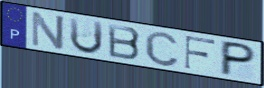B: (106, 23, 143, 62)
C: (143, 30, 181, 68)
F: (183, 35, 218, 71)
N: (30, 10, 67, 51)
P: (218, 40, 259, 78)
U: (68, 16, 105, 56)
